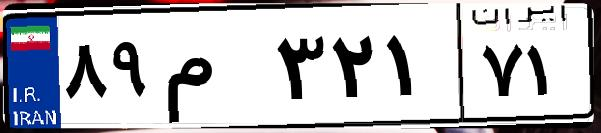1: (385, 28, 445, 110), (525, 38, 570, 115)
2: (330, 28, 385, 110)
3: (270, 28, 330, 110)
7: (475, 38, 525, 113)
8: (57, 26, 110, 100)
9: (110, 28, 158, 98)
م: (158, 20, 270, 120)
